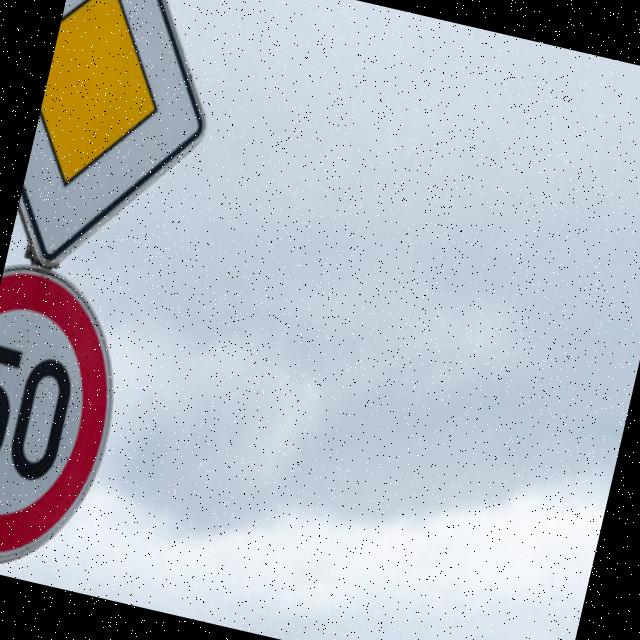speed_limit_50: (0, 244, 156, 594)
